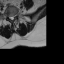CCS_severe_stenosis: (10, 14, 12, 21)
LFS_normal: (14, 12, 16, 19)
LLS_normal: (12, 15, 14, 21)
RFS_stenosis: (7, 13, 9, 19)
RLS_normal: (9, 14, 10, 20)
